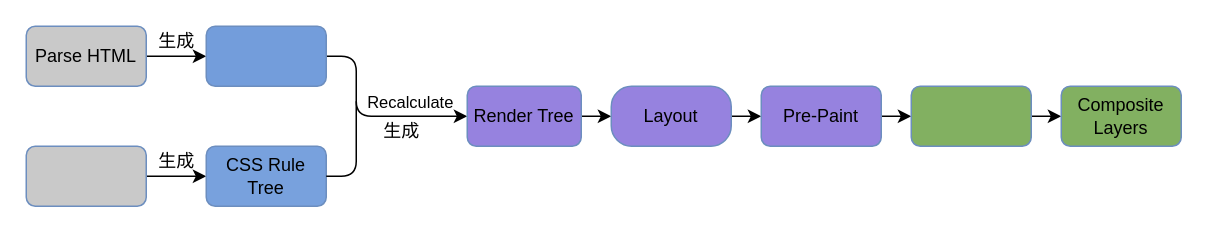
The diagram is 1208 pixels wide and 233 high, and some of its shapes have lost their labels. Each missing label, with the centre of its shape:
DOM Tree: [265,55]
Paint: [970,115]
Parse StyleSheet: [85,175]
